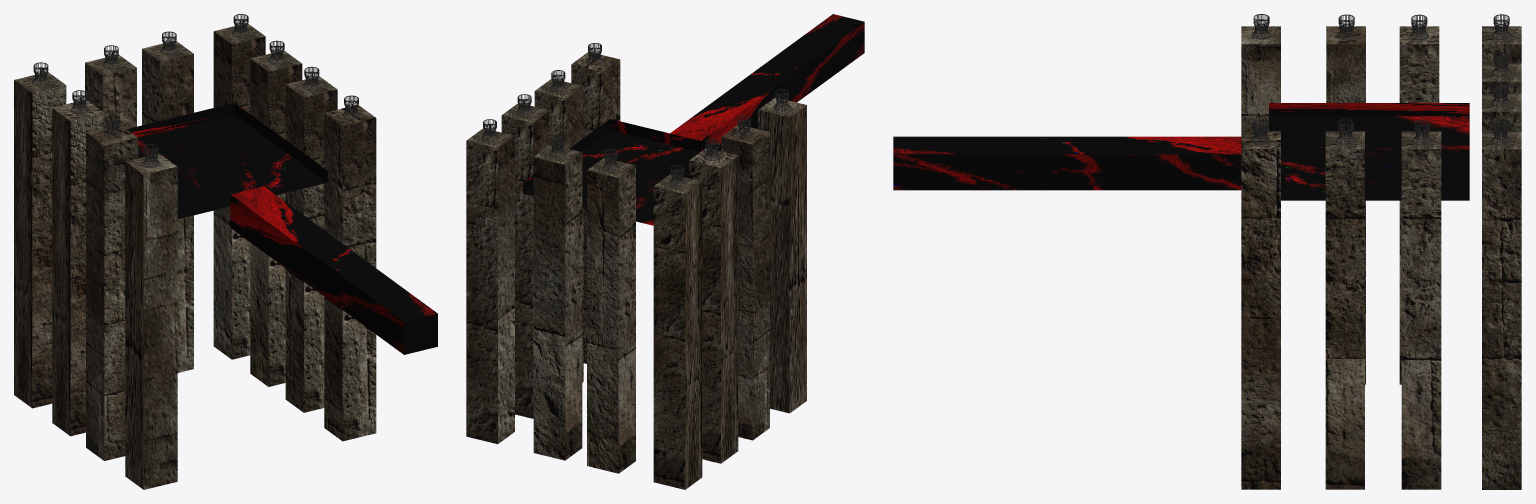
File: dark_arena.glb
The picture shows the model from 3 angles, left to right: view 1: azimuth 30°, elevation 25°; view 2: azimuth 150°, elevation 25°; view 3: azimuth 270°, elevation 25°; orthographic projection. The views are drawn at different scales.
Parts seen in each view (by area): view 1: Cube.009-col, Cube.010-col, Cube.001-col, Cube.003-col, Cube.011-col, platform-col, Cube.002-col, Cube.008-col, Cube.006-col, Cube.007-col, Cube.005-col, Cube.004-col; view 2: Cube.003-col, Cube.005-col, Cube.004-col, Cube.006-col, Cube.009-col, Cube.002-col, Cube.001-col, Cube.011-col, Cube.007-col, platform-col, Cube.010-col, Cube.008-col; view 3: Cube.011-col, Cube.007-col, Cube.008-col, Cube.010-col, Cube.006-col, platform-col, Cube.009-col, Cube.002-col, Cube.001-col, Cube.003-col, Cube.005-col, Cube.004-col.
Boxes of the visible parts, x1,y1,x2,y2 form: Cube.009-col: (125,153,177,489); Cube.010-col: (324,105,376,441); Cube.001-col: (86,125,138,460); Cube.003-col: (14,72,66,408); Cube.011-col: (230,186,437,354); platform-col: (127,103,327,218); Cube.002-col: (52,100,104,436); Cube.008-col: (285,76,337,412); Cube.006-col: (213,23,265,359); Cube.007-col: (250,50,302,386); Cube.005-col: (142,41,193,372); Cube.004-col: (85,54,136,129); Cube.003-col: (653,174,702,489); Cube.005-col: (533,144,582,460); Cube.004-col: (587,158,635,473); Cube.006-col: (466,128,514,444); Cube.009-col: (758,97,806,413); Cube.002-col: (689,148,738,463); Cube.001-col: (721,125,769,440); Cube.011-col: (670,14,864,151); Cube.007-col: (501,103,550,418); platform-col: (523,119,720,225); Cube.010-col: (571,52,620,363); Cube.008-col: (534,79,583,382); Cube.011-col: (893,136,1241,190); Cube.007-col: (1401,131,1441,489); Cube.008-col: (1325,131,1364,489); Cube.010-col: (1241,131,1280,489); Cube.006-col: (1482,131,1521,489); platform-col: (1269,103,1469,200); Cube.009-col: (1241,26,1280,131); Cube.002-col: (1399,26,1439,384); Cube.001-col: (1326,26,1365,384); Cube.003-col: (1482,26,1521,63); Cube.005-col: (1482,94,1521,131); Cube.004-col: (1482,63,1521,93).
Bounding box in the file's own units: 203 × 276 × 438.
3 materials, 2 textured.
